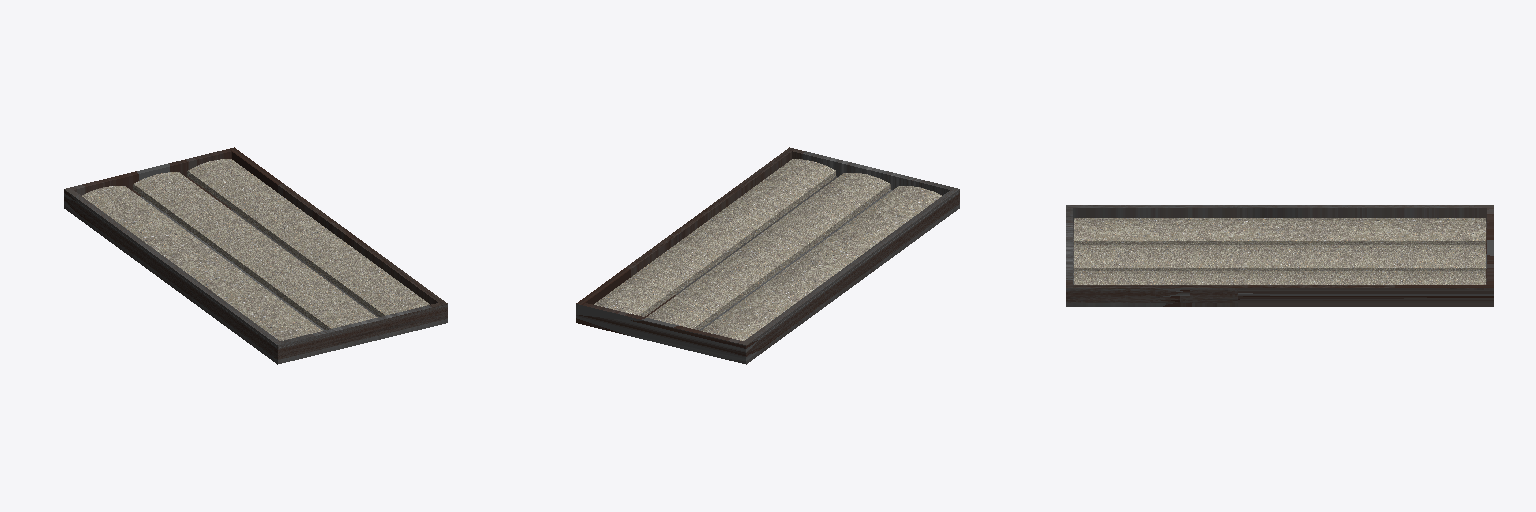
3 renders of one model, left to right at view 1: azimuth 30°, elevation 25°; view 2: azimuth 150°, elevation 25°; view 3: azimuth 270°, elevation 25°, orthographic.
Parts seen in each view (by area): view 1: Cube.045; view 2: Cube.045; view 3: Cube.045.
Boxes of the visible parts, box(x1,y1,x2,y2) form: Cube.045: box(64, 147, 447, 364); Cube.045: box(576, 147, 959, 364); Cube.045: box(1066, 205, 1493, 306).
Bounding box in the file's own units: 7.61 × 0.8206 × 16.53.
Materials: 2 (2 with a texture image).